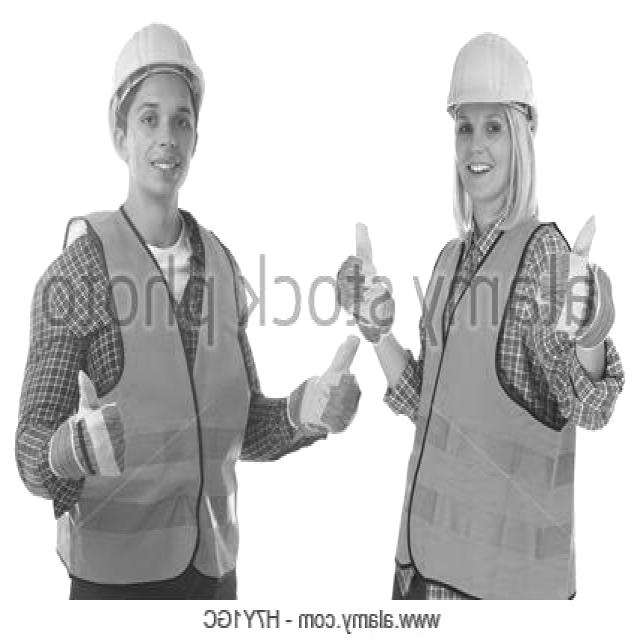face_nomask: (122, 86, 208, 198), (448, 100, 526, 200)
hand_glove: (534, 218, 626, 346), (43, 368, 127, 500), (333, 210, 401, 344), (286, 336, 364, 452)
head_helmet: (96, 20, 212, 140), (434, 28, 540, 114)
person: (25, 4, 288, 598), (356, 20, 611, 602)
vest: (46, 202, 256, 572), (372, 224, 582, 576)
